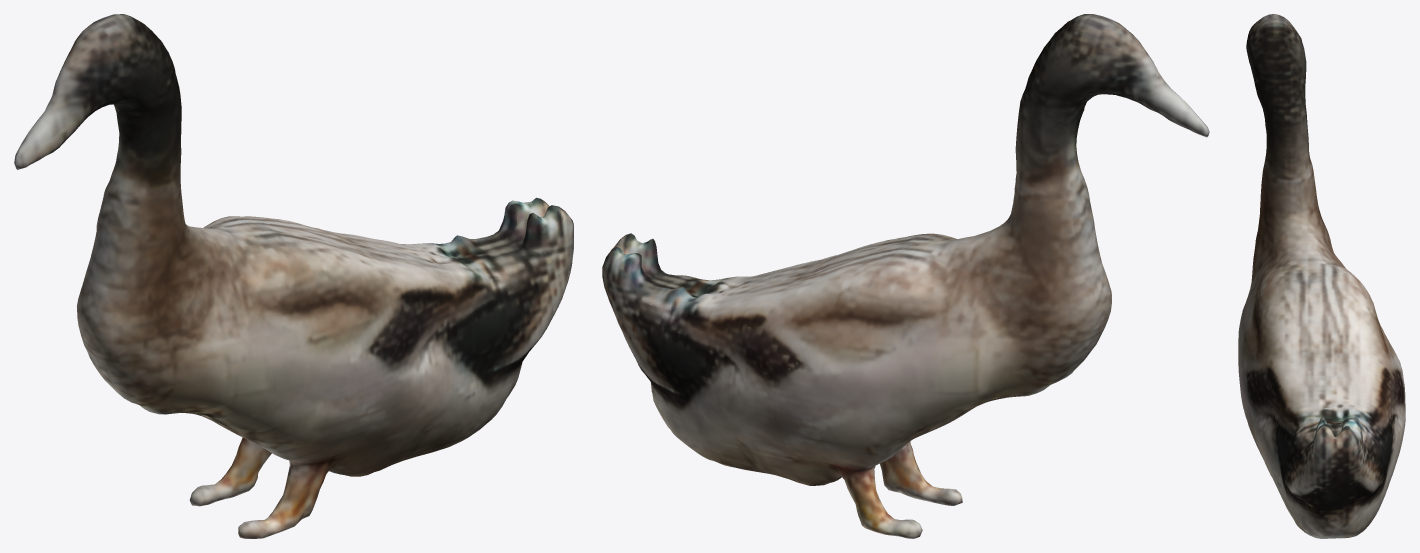
Rendered from adulto.glb.
The picture shows the model from 3 angles, left to right: view 1: azimuth 30°, elevation 25°; view 2: azimuth 150°, elevation 25°; view 3: azimuth 270°, elevation 25°; orthographic projection. The views are drawn at different scales.
Visible parts, largest first — view 1: mesh; view 2: mesh; view 3: mesh.
Part boxes in pixels (bbox=[...]): mesh: bbox=[14, 14, 573, 538]; mesh: bbox=[602, 14, 1209, 538]; mesh: bbox=[1238, 14, 1405, 538].
Size of the model in its own units: 1.71 by 1.52 by 0.5633.
Materials: 1 (1 with a texture image).
